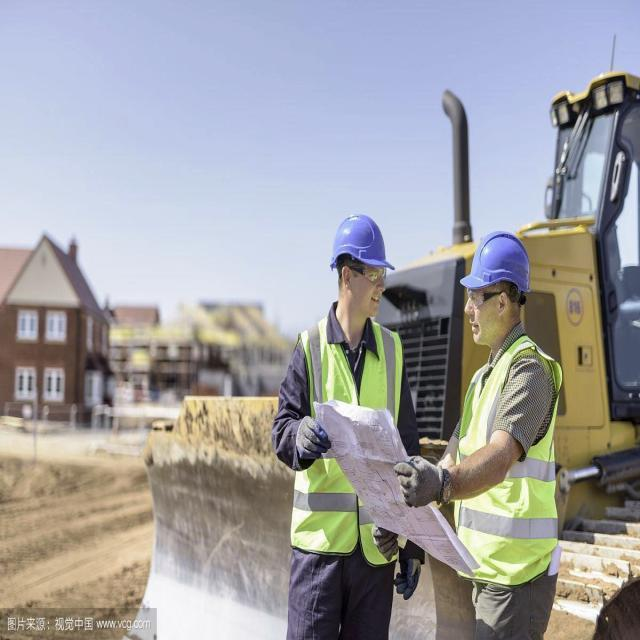face_nomask: (464, 288, 513, 352), (345, 256, 389, 315)
glasses: (362, 262, 389, 286), (463, 286, 489, 310)
hand_glove: (393, 454, 453, 516), (289, 414, 333, 464), (394, 558, 424, 604), (373, 527, 401, 560)
head_helmet: (462, 231, 534, 298), (332, 216, 392, 270)
person: (300, 196, 400, 629), (458, 232, 545, 634)
vest: (292, 321, 412, 537), (457, 347, 570, 573)
